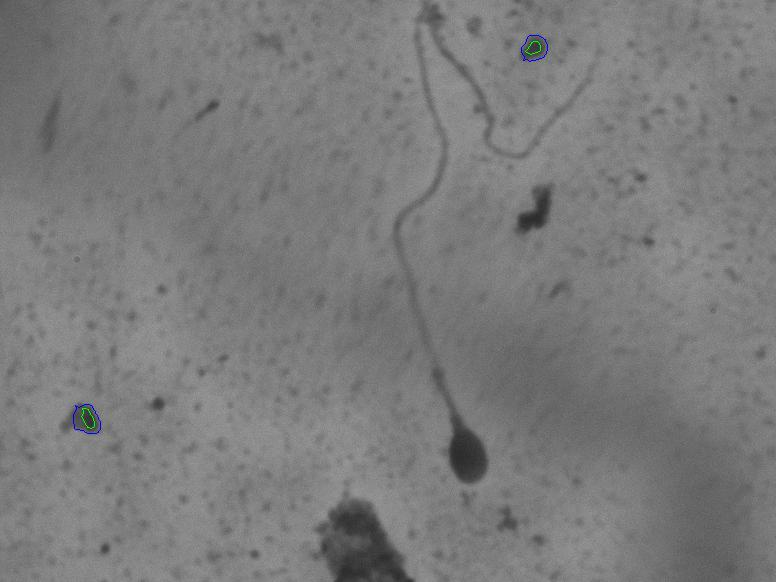Normal: (346, 2, 626, 507)
